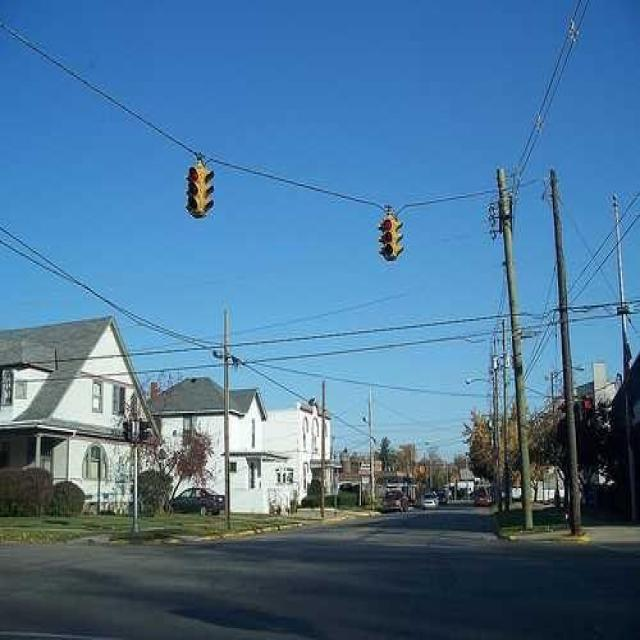Traffic Light -Red-: (182, 162, 219, 222), (376, 213, 407, 264), (581, 394, 594, 444)
